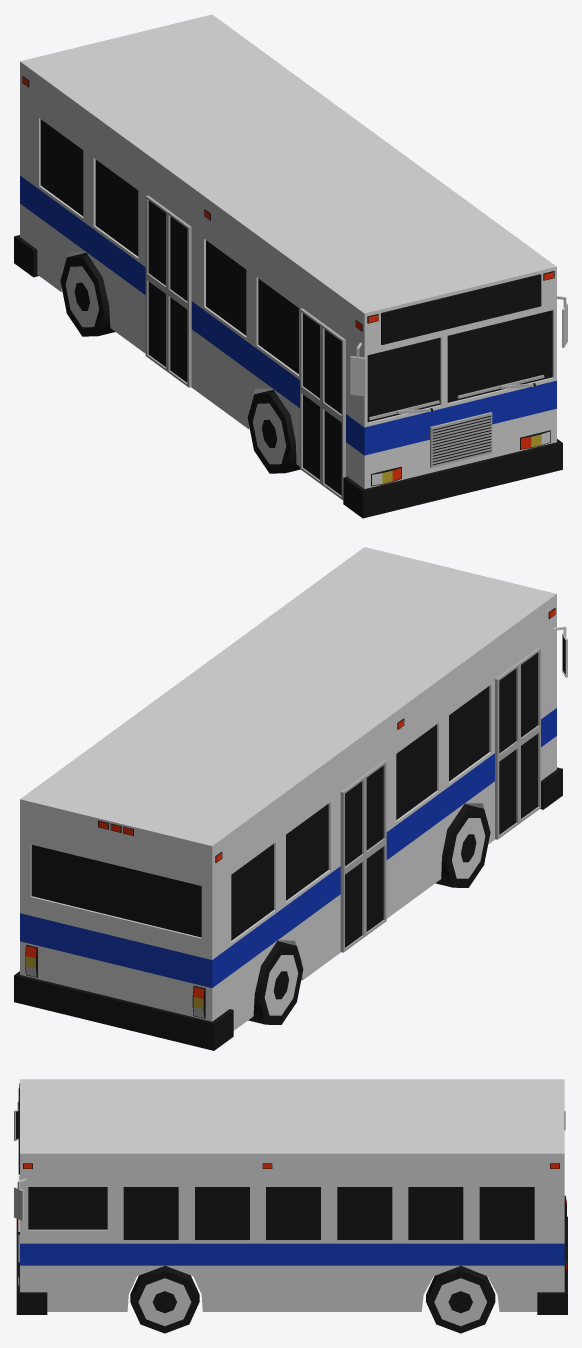
File: Car_Bus.FBX
3 views of the same model, one above another, from view 1: azimuth 30°, elevation 25°; view 2: azimuth 150°, elevation 25°; view 3: azimuth 270°, elevation 25° (orthographic). The views are drawn at different scales.
Visible parts, largest first — view 1: Box004; view 2: Box004; view 3: Box004.
Boxes of the visible parts, x1,y1,x2,y2 form: Box004: [14, 14, 567, 518]; Box004: [14, 547, 567, 1050]; Box004: [14, 1079, 567, 1333].
Size of the model in its own units: 2.47 by 2.45 by 6.88.
